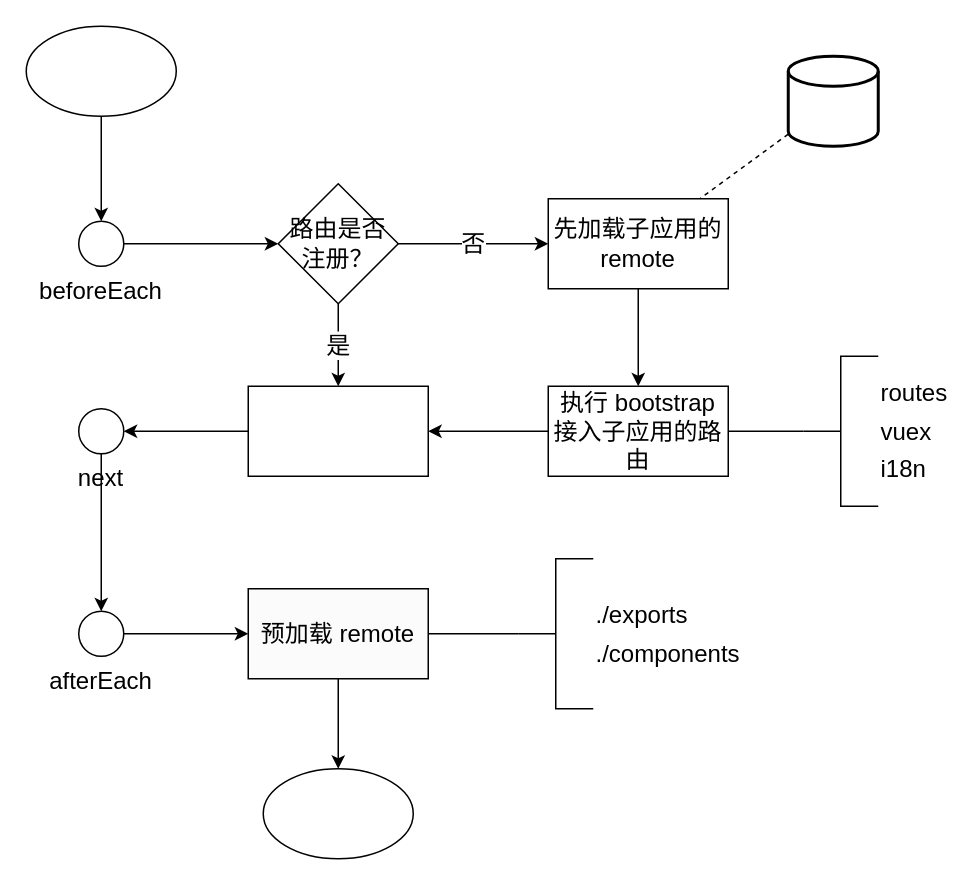
The diagram is 972 pixels wide and 885 high, and some of its shapes have lost their labels. Here are the shapes that lost their labels. From the top down, the centre of each, then its label:
At (x=100, y=70): "开始".
At (x=832, y=100): "cacheAppName".
At (x=337, y=430): "进入页面".
At (x=337, y=813): "结束".
